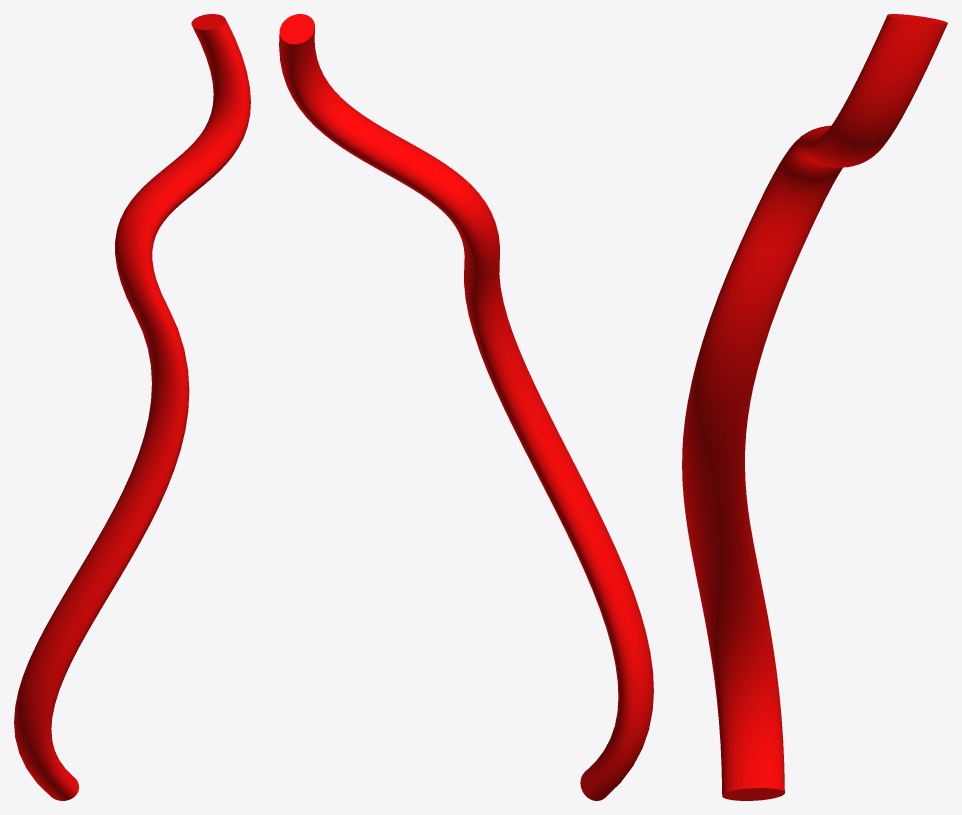
Rendered from red wire.fbx.
3 views of the same model, side by side, from view 1: azimuth 30°, elevation 25°; view 2: azimuth 150°, elevation 25°; view 3: azimuth 270°, elevation 25° (orthographic). The views are drawn at different scales.
Visible parts, largest first — view 1: BezierCurve; view 2: BezierCurve; view 3: BezierCurve.
Boxes of the visible parts, x1,y1,x2,y2 form: BezierCurve: (14,14,250,800); BezierCurve: (279,14,653,800); BezierCurve: (682,14,947,800).
Bounding box in the file's own units: 302 × 722 × 187.
